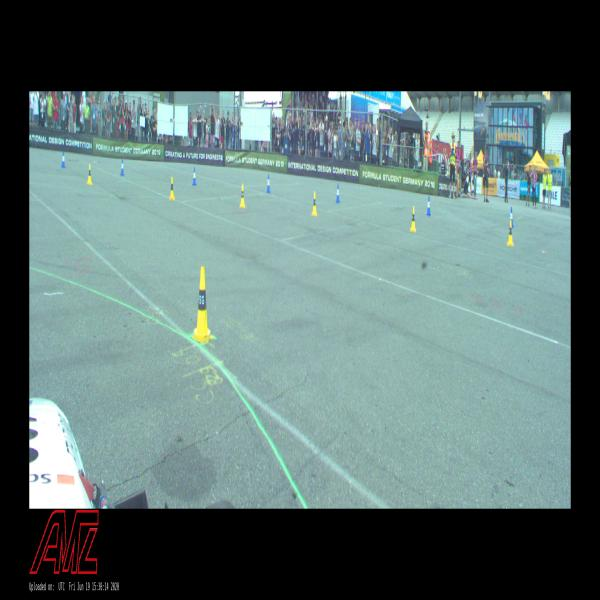blue_cone: (508, 208, 514, 228), (120, 158, 125, 176), (426, 196, 430, 215), (266, 174, 270, 193), (336, 184, 340, 203), (192, 167, 196, 185), (62, 152, 66, 167)
yellow_cone: (190, 266, 214, 344), (506, 220, 514, 246), (410, 206, 416, 232), (169, 176, 175, 200), (240, 184, 246, 207), (87, 163, 93, 184), (312, 192, 317, 215)
